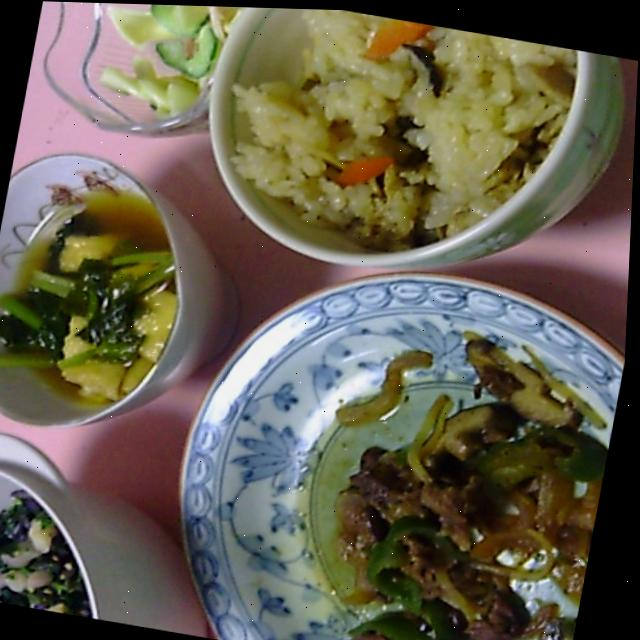米饭主食: (179, 4, 640, 314)
蔬菜料理: (21, 1, 277, 165)
